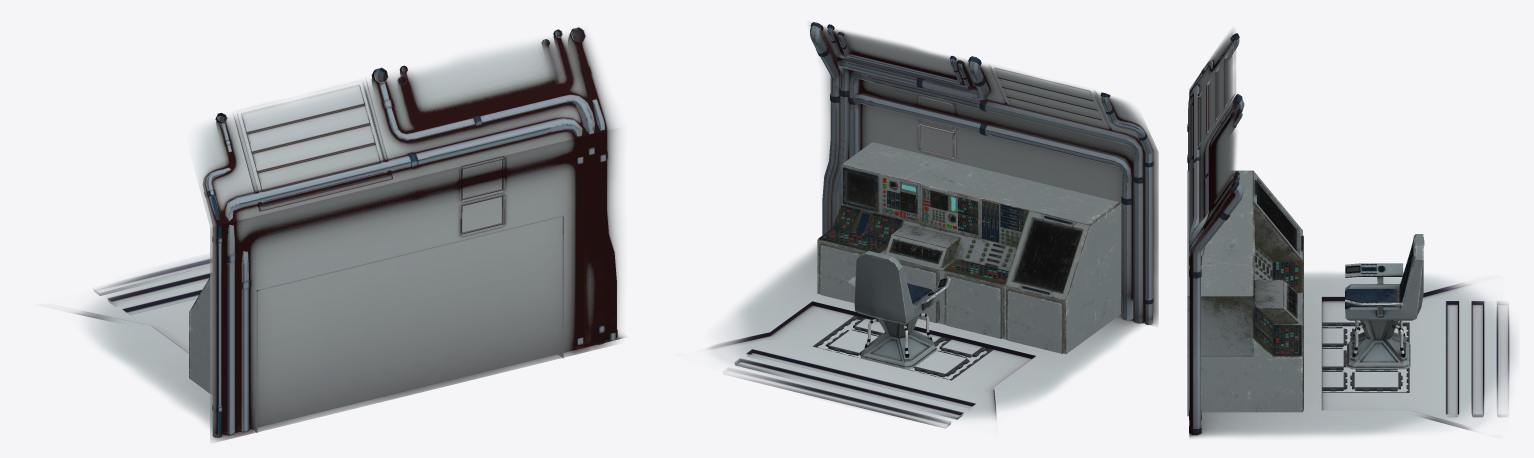
Rendered from the_control_room-opt.glb.
3 views of the same model, side by side, from view 1: azimuth 30°, elevation 25°; view 2: azimuth 150°, elevation 25°; view 3: azimuth 270°, elevation 25° (orthographic). The views are drawn at different scales.
Visible parts, largest first — view 1: Object_2, Object_4; view 2: Object_2, Object_4, Object_3, Object_6; view 3: Object_2, Object_4, Object_3, Object_6.
Boxes of the visible parts, x1,y1,x2,y2 form: Object_2: [69, 27, 625, 442]; Object_4: [189, 215, 563, 432]; Object_2: [709, 22, 1158, 428]; Object_4: [817, 142, 1120, 354]; Object_3: [847, 251, 950, 369]; Object_6: [813, 316, 993, 380]; Object_2: [1187, 30, 1518, 438]; Object_4: [1187, 170, 1303, 416]; Object_3: [1345, 234, 1424, 369]; Object_6: [1322, 322, 1409, 392].
Bounding box in the file's own units: 617 × 436 × 502.
Materials: 4 (3 with a texture image).
